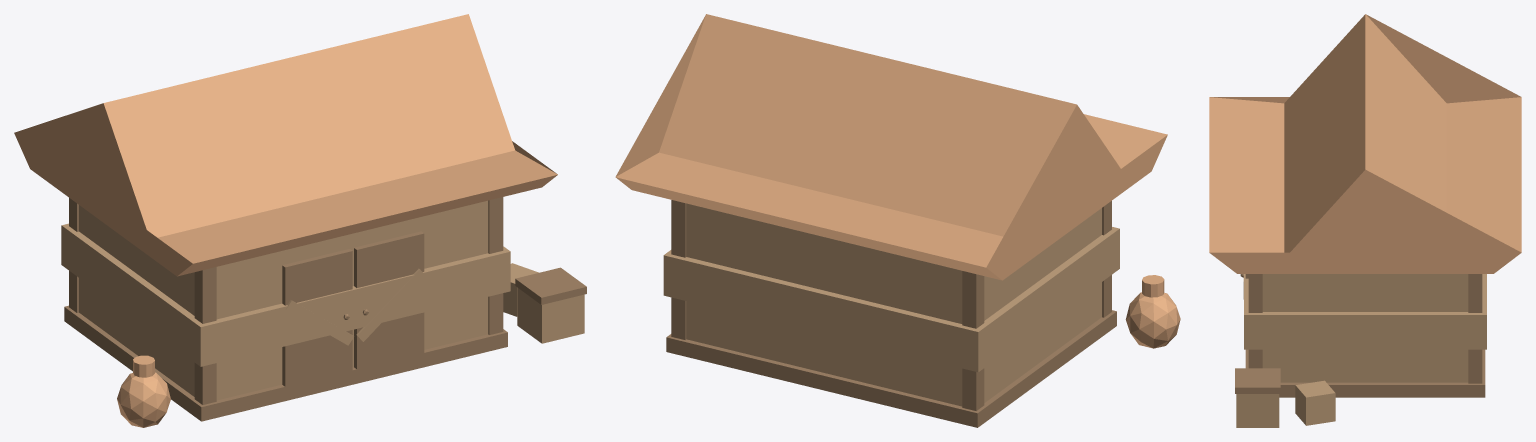
Rendered from warehouse.glb.
The picture shows the model from 3 angles, left to right: view 1: azimuth 30°, elevation 25°; view 2: azimuth 150°, elevation 25°; view 3: azimuth 270°, elevation 25°; orthographic projection. The views are drawn at different scales.
Parts seen in each view (by area): view 1: roof, body, band, trim_bot, door_1, door_-1, crate_1, jar, corner_-1_1, crate_1_frame, corner_1_1, brace_1 (+3 smaller); view 2: roof, body, band, trim_bot, jar, corner_-1_-1, corner_1_-1, corner_-1_1; view 3: roof, body, band, trim_bot, crate_2, crate_1, crate_1_frame, corner_1_-1, corner_1_1.
Part boxes in pixels (box(x1,y1,x2,y2)): roof: box(14, 14, 557, 276); body: box(79, 200, 488, 400); band: box(61, 223, 510, 366); trim_bot: box(64, 305, 507, 421); door_1: box(354, 231, 424, 375); door_-1: box(282, 249, 352, 389); crate_1: box(517, 287, 584, 343); jar: box(117, 372, 170, 427); corner_-1_1: box(194, 267, 216, 404); crate_1_frame: box(515, 267, 586, 304); corner_1_1: box(488, 197, 503, 334); brace_1: box(356, 268, 425, 341); roof: box(615, 14, 1167, 280); body: box(686, 203, 1101, 406); band: box(663, 227, 1119, 372); trim_bot: box(666, 310, 1116, 427); jar: box(1125, 292, 1180, 348); corner_-1_-1: box(962, 271, 984, 410); corner_1_-1: box(671, 200, 686, 339); corner_-1_1: box(1102, 201, 1111, 317); roof: box(1209, 14, 1521, 273); body: box(1262, 274, 1468, 382); band: box(1244, 274, 1486, 349); trim_bot: box(1245, 349, 1485, 397); crate_2: box(1295, 380, 1335, 425); crate_1: box(1236, 394, 1279, 427); crate_1_frame: box(1235, 368, 1280, 393); corner_1_-1: box(1468, 274, 1482, 383); corner_1_1: box(1248, 274, 1262, 368).
Bounding box in the file's own units: 6.45 × 3.8 × 4.45.
